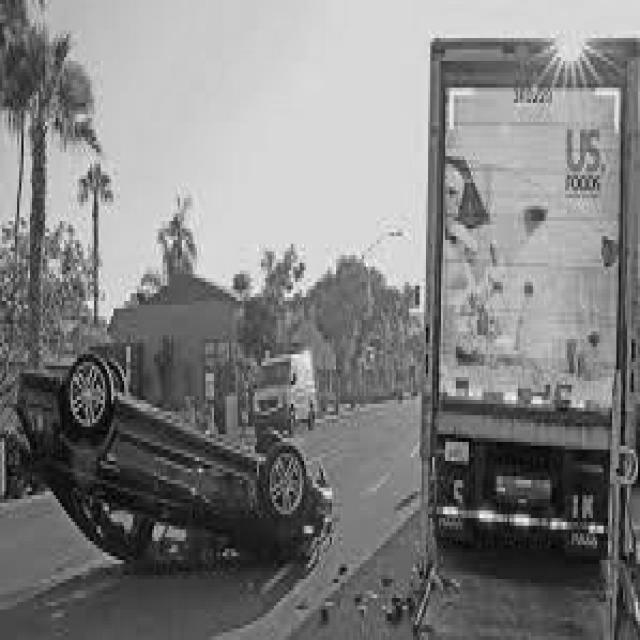accident: (10, 335, 338, 583)
vehicle: (425, 27, 633, 575), (251, 351, 321, 435)
